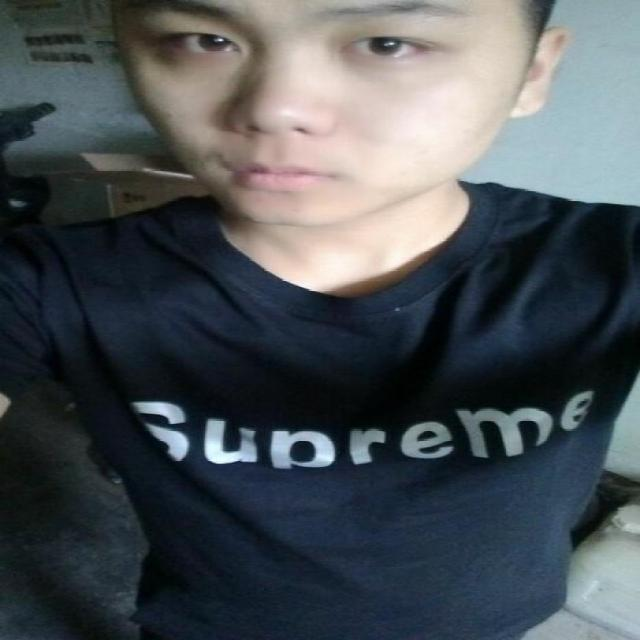short sleeve top: (1, 182, 635, 636)
